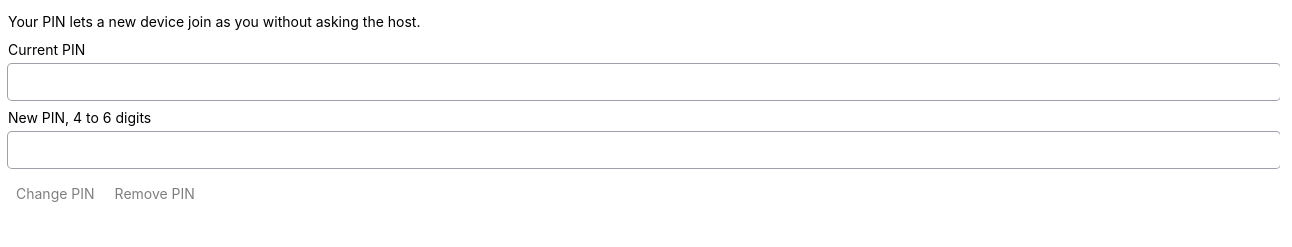
Test: PinSettings › says how many tries are left after a wrong old PIN
In the password field labelled "Current PIN": x=644, y=82 top-left (8, 64), bottom-right (1280, 100), type "0000"
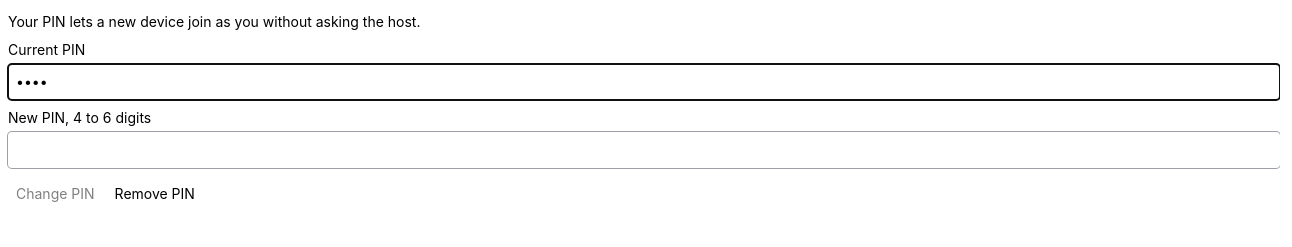
In the password field labelled "New PIN, 4 to 6 digits": x=644, y=150 top-left (8, 132), bottom-right (1280, 168), type "2468"
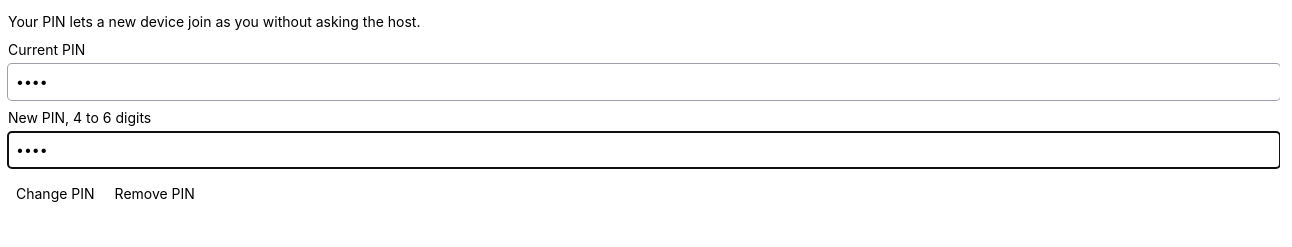
Click the button "Change PIN": x=55, y=194 top-left (8, 176), bottom-right (103, 212)
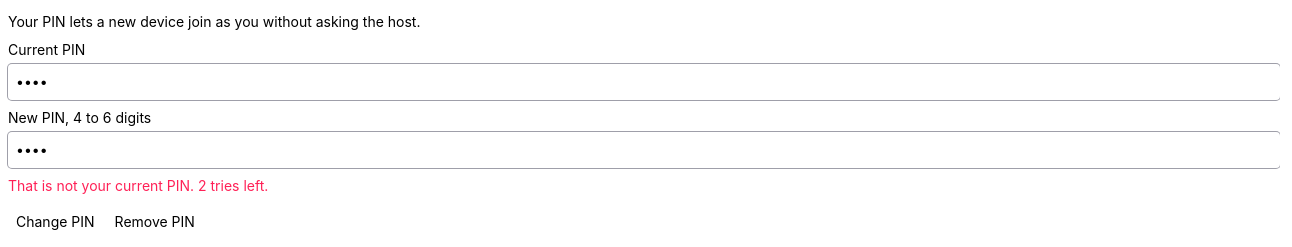
Check: the message shows "2 tries left", box top-left (8, 177), bottom-right (268, 194)
